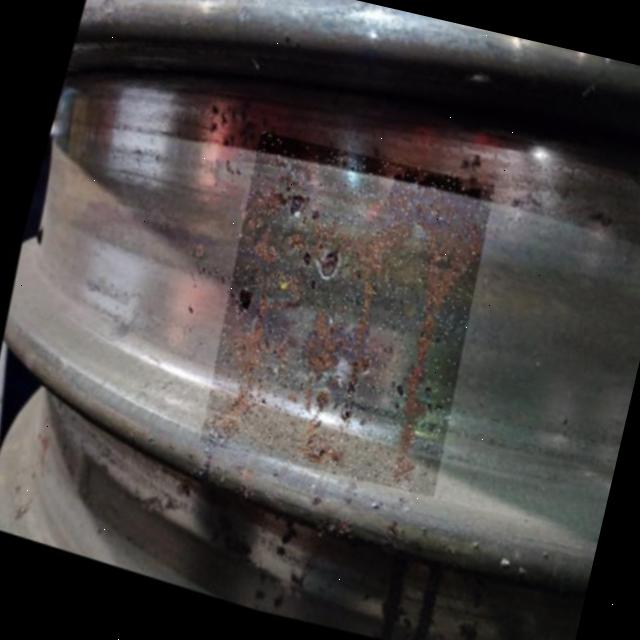Blue hole: (274, 218, 363, 308), (217, 274, 276, 327)
